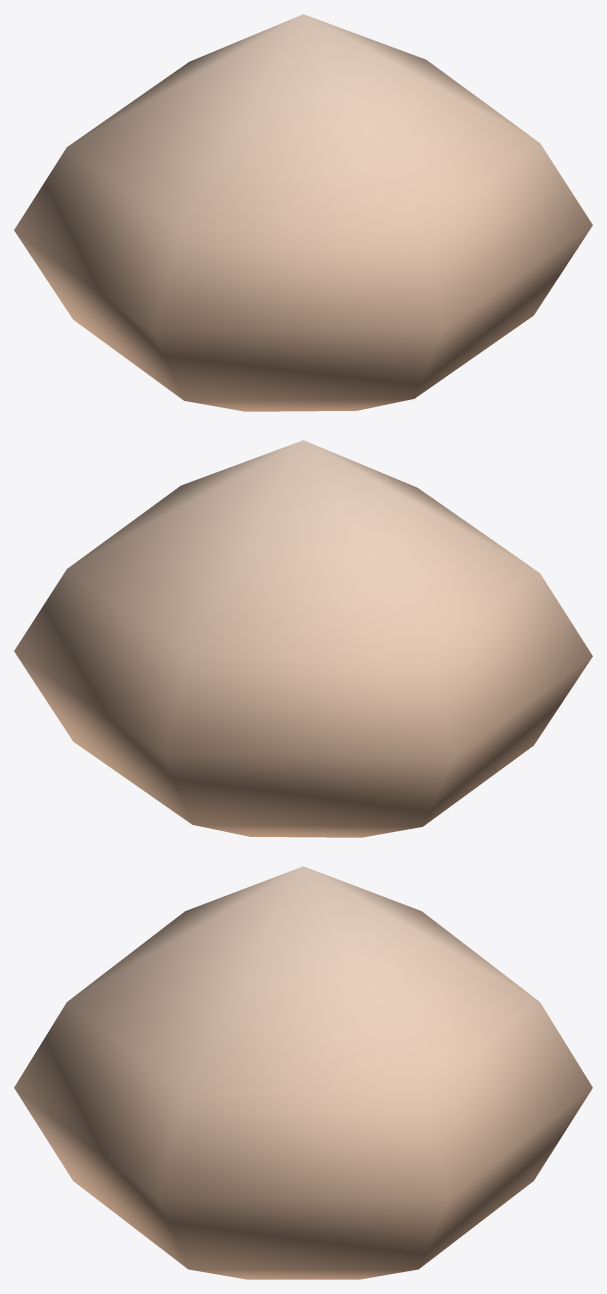
The model's file is Garlic.fbx.
3 renders of one model, top to bottom at view 1: azimuth 30°, elevation 25°; view 2: azimuth 150°, elevation 25°; view 3: azimuth 270°, elevation 25°, orthographic. The views are drawn at different scales.
Parts seen in each view (by area): view 1: Garlic; view 2: Garlic; view 3: Garlic.
Part boxes in pixels (x1=…): Garlic: x1=14, y1=14, x2=592, y2=411; Garlic: x1=14, y1=440, x2=592, y2=837; Garlic: x1=14, y1=866, x2=592, y2=1279.
Size of the model in its own units: 4.55 by 3.53 by 5.
